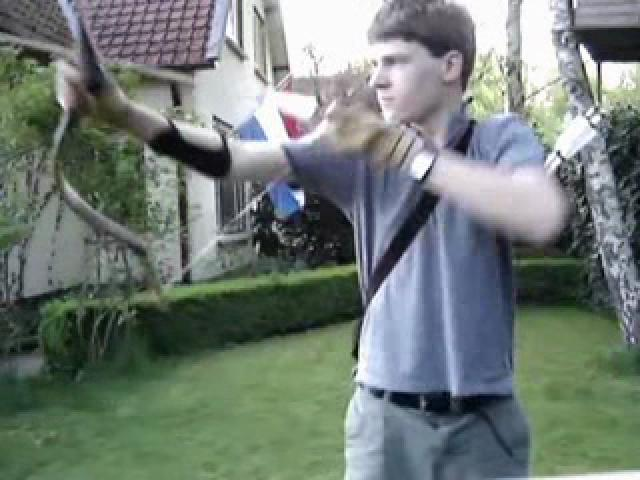P: (56, 6, 567, 476)
